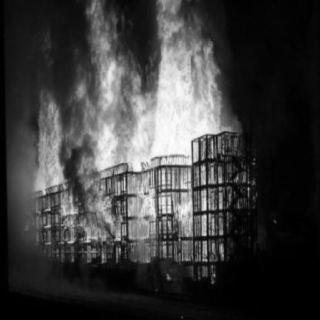Fire: (19, 1, 241, 281)
